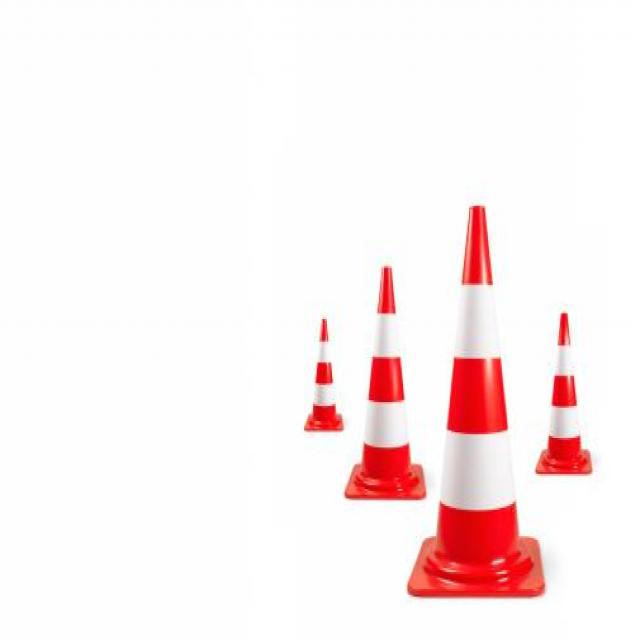Cone: (408, 206, 544, 598), (347, 266, 427, 502), (540, 314, 589, 484), (305, 319, 346, 434)
